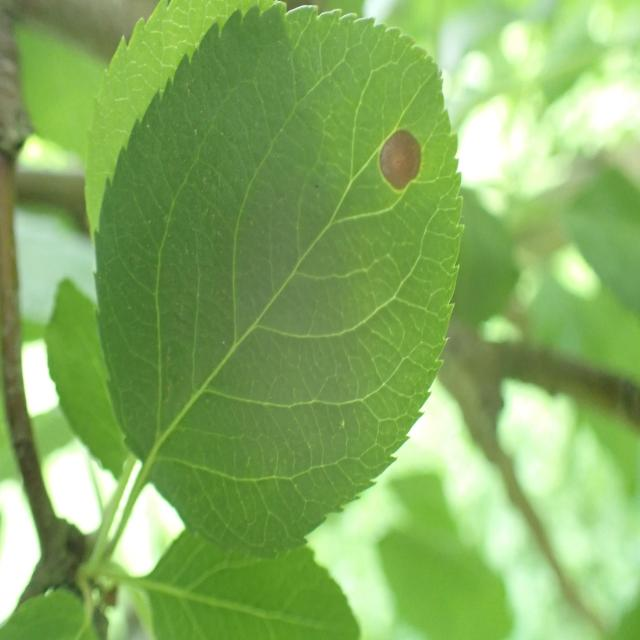Black Rot: (358, 113, 439, 199)
